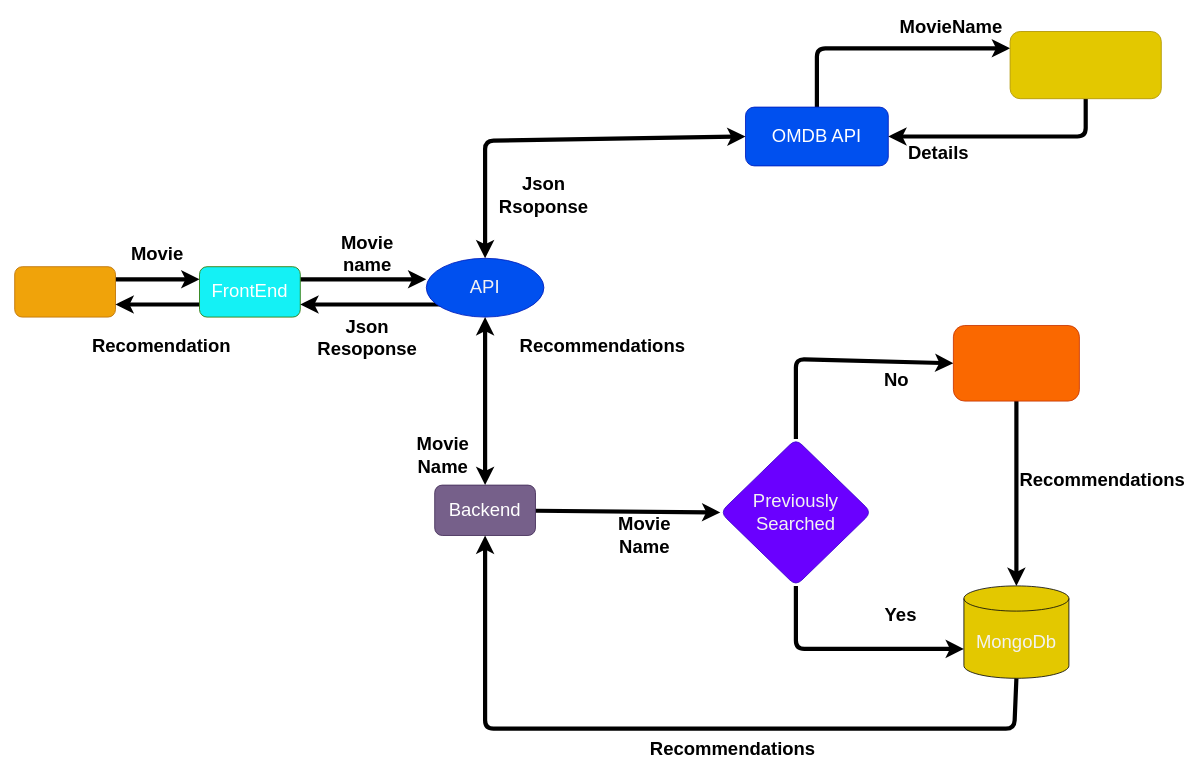
Image size: 1200x776. Some labels were removed from this diagram. Here are the shapes that lost their labels. From the top down, the box of each, then its label:
(1009, 31, 1161, 99): OMDB Database
(14, 266, 116, 317): User
(953, 325, 1079, 401): Cosine similarity
